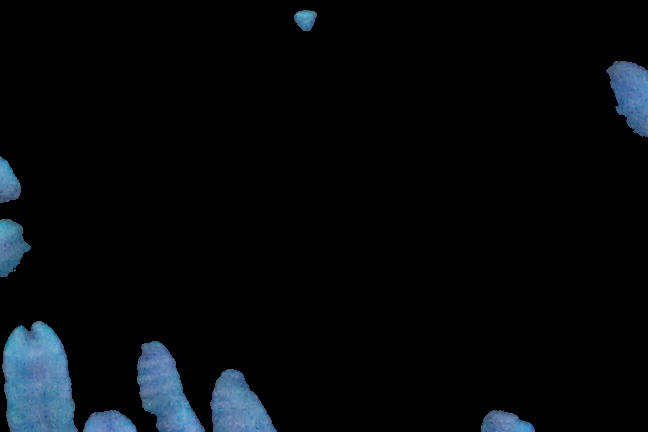larvae: (3, 318, 72, 432), (132, 341, 198, 432), (205, 365, 278, 432)
